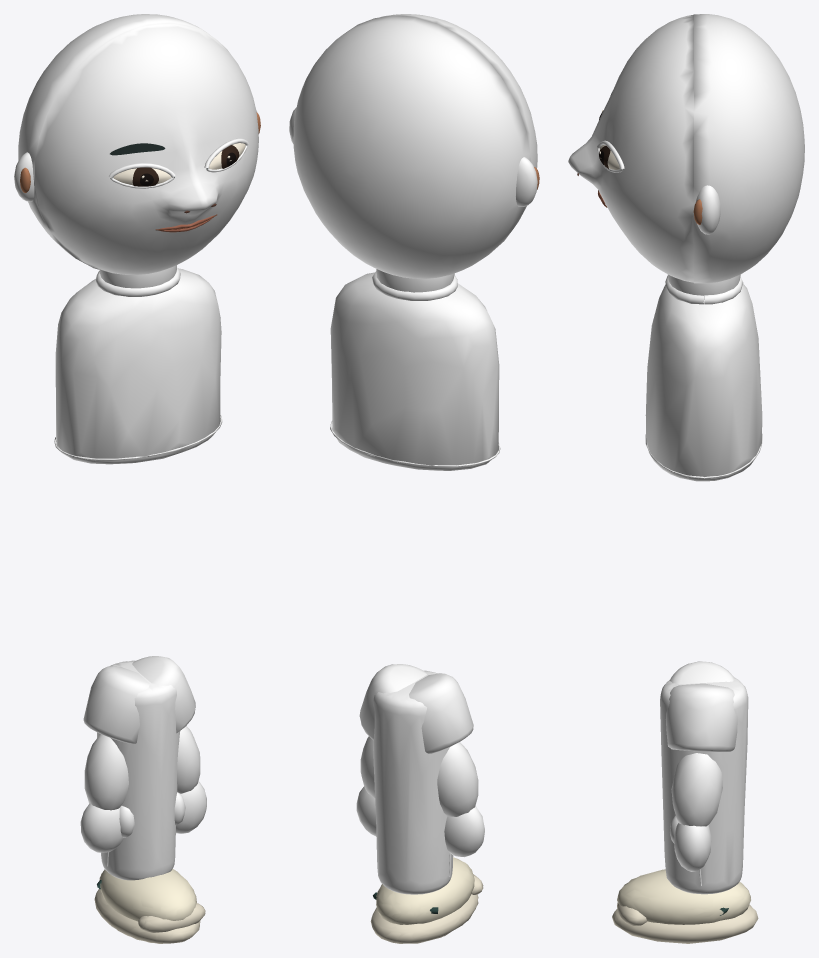
The model's file is base-male.glb.
3 renders of one model, left to right at view 1: azimuth 30°, elevation 25°; view 2: azimuth 150°, elevation 25°; view 3: azimuth 270°, elevation 25°, orthographic.
Visible parts, largest first — view 1: head__skin, body__shirt, leftLeg__trousers, rightLeg__trousers, leftForearm__skin, leftLeg__fixed, leftUpperArm__shirt, rightLeg__fixed, rightForearm__skin, head__fixed, rightUpperArm__shirt; view 2: head__skin, body__shirt, leftLeg__trousers, rightLeg__trousers, leftForearm__skin, leftUpperArm__shirt, leftLeg__fixed, rightLeg__fixed, rightUpperArm__shirt, rightForearm__skin; view 3: head__skin, body__shirt, leftLeg__trousers, rightLeg__trousers, leftLeg__fixed, rightForearm__skin, rightUpperArm__shirt, rightLeg__fixed, leftUpperArm__shirt, head__fixed.
Boxes of the visible parts, x1,y1,x2,y2 form: head__skin: (14, 14, 258, 288); body__shirt: (54, 268, 222, 464); leftLeg__trousers: (97, 660, 177, 880); rightLeg__trousers: (97, 660, 180, 880); leftForearm__skin: (80, 734, 134, 852); leftLeg__fixed: (95, 869, 205, 943); leftUpperArm__shirt: (83, 666, 149, 743); rightLeg__fixed: (94, 870, 205, 943); rightForearm__skin: (174, 726, 206, 833); head__fixed: (20, 112, 260, 232); rightUpperArm__shirt: (132, 656, 195, 733); head__skin: (289, 14, 537, 292); body__shirt: (330, 271, 500, 470); leftLeg__trousers: (373, 670, 453, 894); rightLeg__trousers: (373, 683, 451, 894); leftForearm__skin: (437, 742, 484, 857); leftUpperArm__shirt: (409, 673, 473, 753); leftLeg__fixed: (371, 857, 483, 943); rightLeg__fixed: (370, 859, 483, 943); rightUpperArm__shirt: (359, 664, 426, 740); rightForearm__skin: (356, 736, 376, 836); head__skin: (568, 14, 804, 299); body__shirt: (645, 275, 762, 481); leftLeg__trousers: (660, 678, 748, 894); rightLeg__trousers: (661, 683, 748, 893); leftLeg__fixed: (613, 869, 758, 942); rightForearm__skin: (670, 753, 722, 871); rightUpperArm__shirt: (665, 683, 737, 751); rightLeg__fixed: (612, 869, 757, 943); leftUpperArm__shirt: (670, 661, 734, 684); head__fixed: (577, 93, 702, 224).
Size of the model in its own units: 0.8515 by 3.02 by 0.7132.
